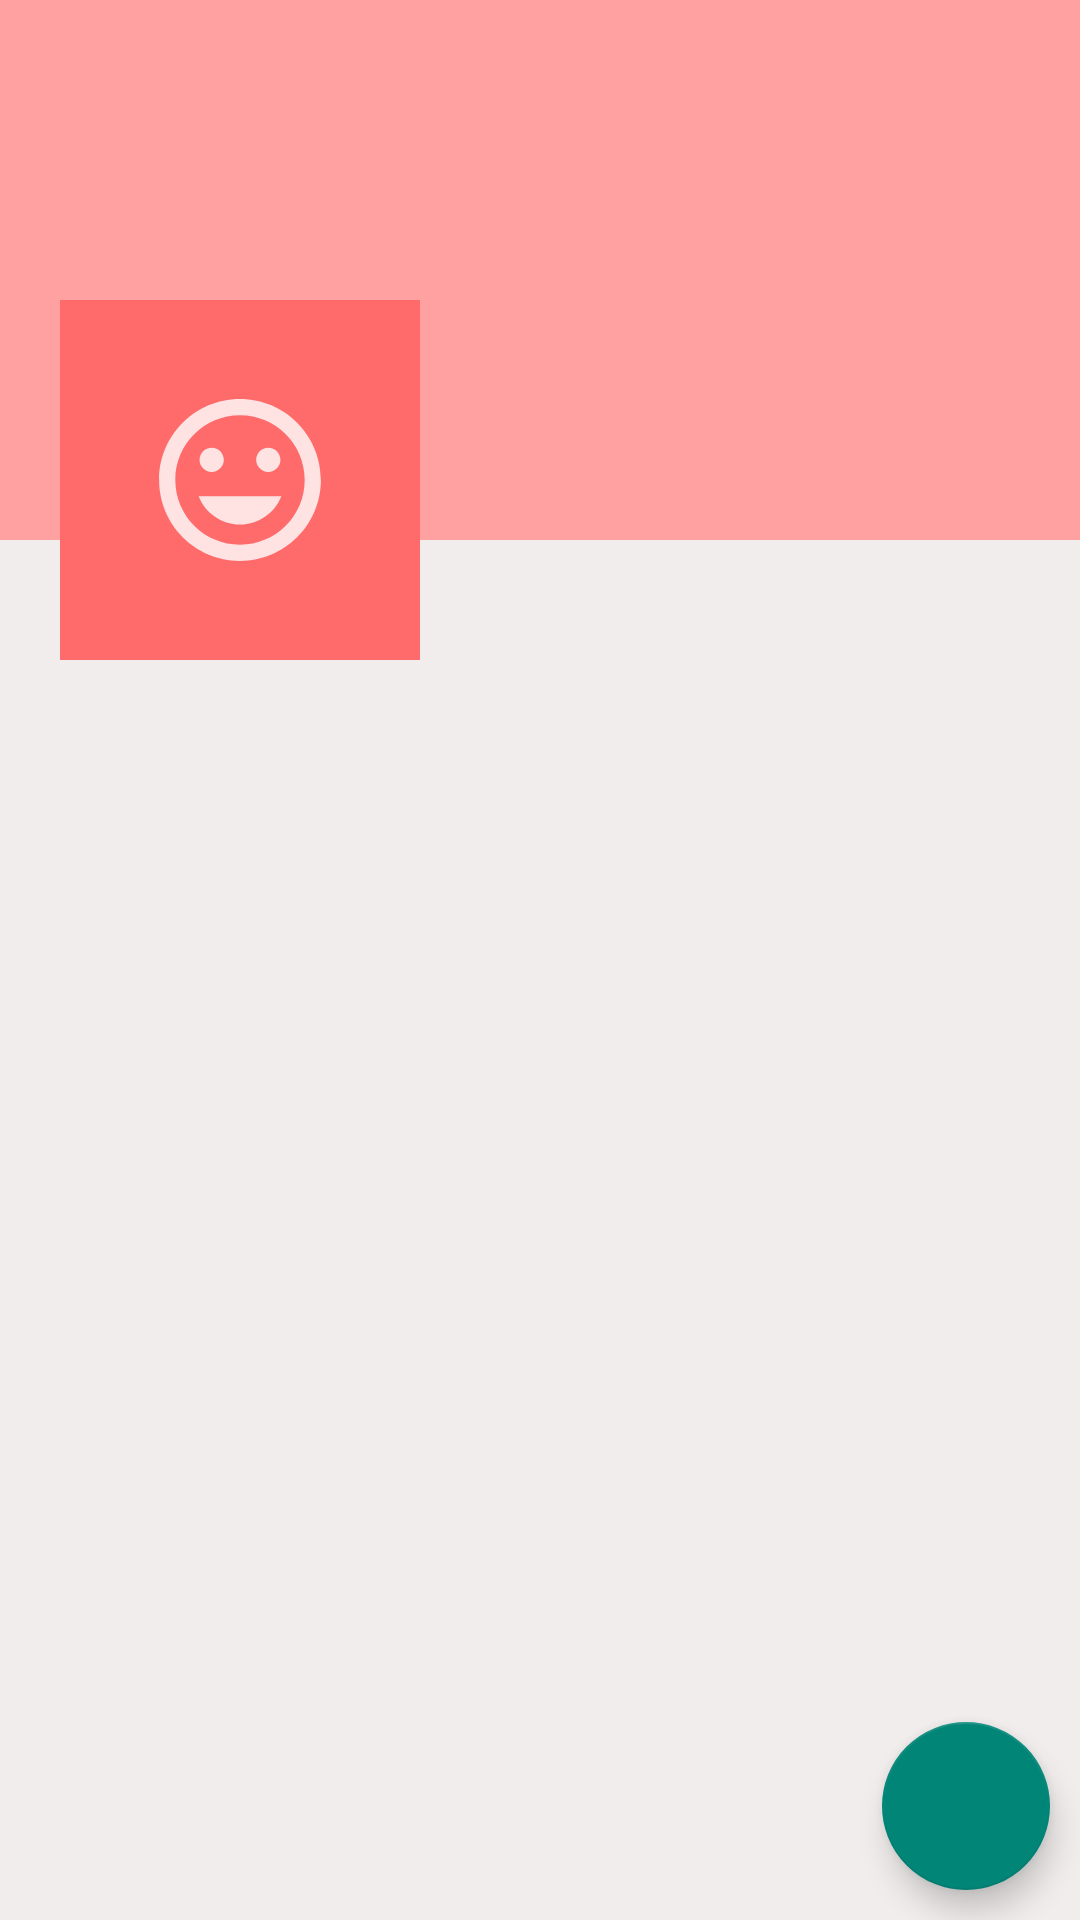

Icons on this 1080x1920 Android screen, each with the point to tap as (x=x, y=y):
face: (x=240, y=480)
